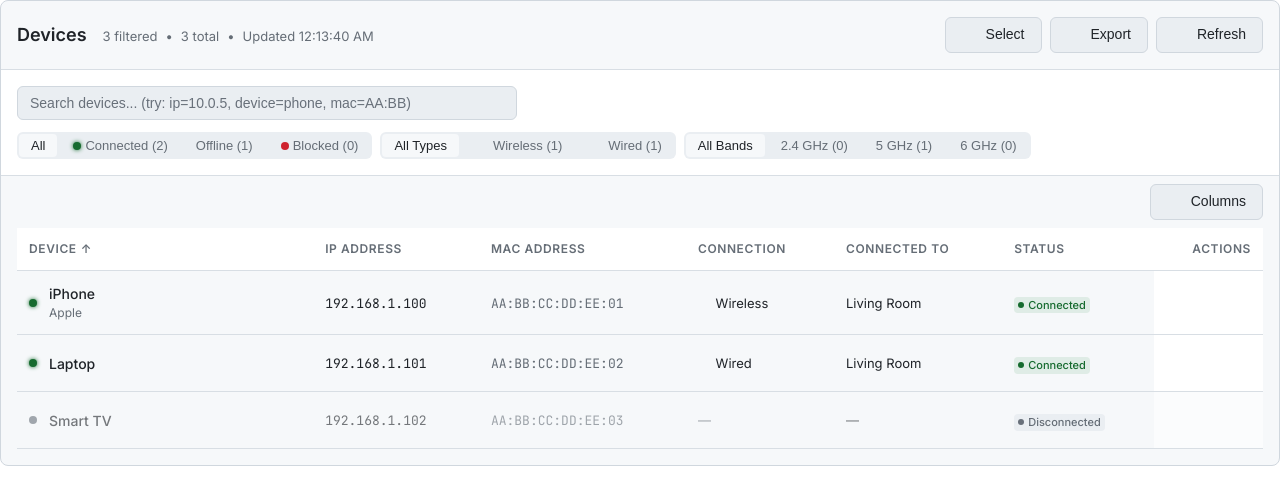
it: DeviceList › filters by field-scoped search (device=)
This screenshot has width=1280, height=483.
Expected: the text "3 filtered" is shown, [103,27,158,46]
Step 1. Type "device=laptop" into the field with placeholder "Search devices... (try: ip=10.0.5, device=phone, mac=AA:BB)" → [267, 103], box [17,86,517,120]
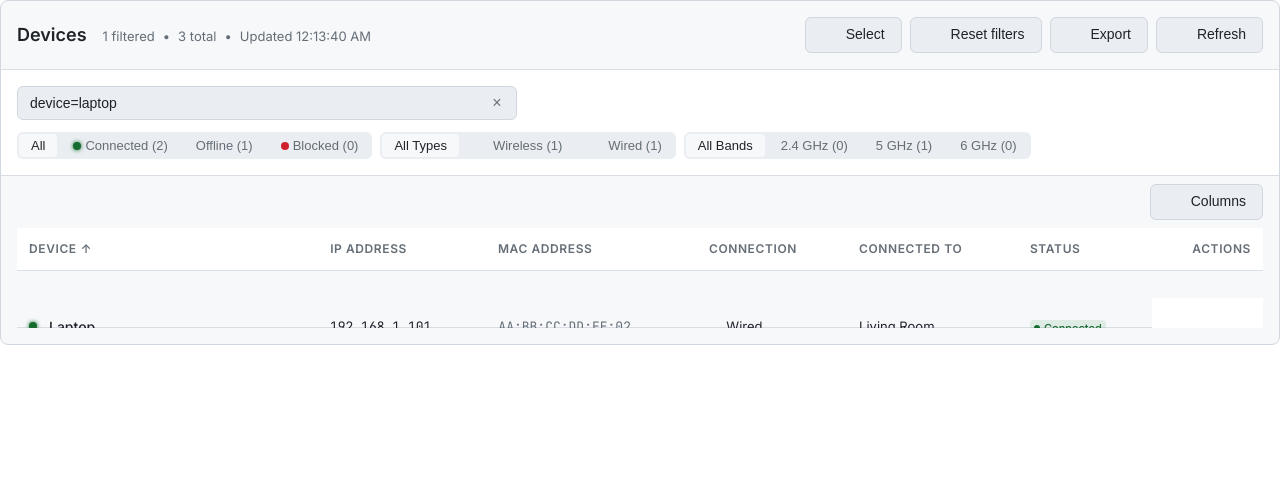
Expected: the text "1 filtered" is shown, [103,27,155,46]
Expected: the link "iPhone" is gone
